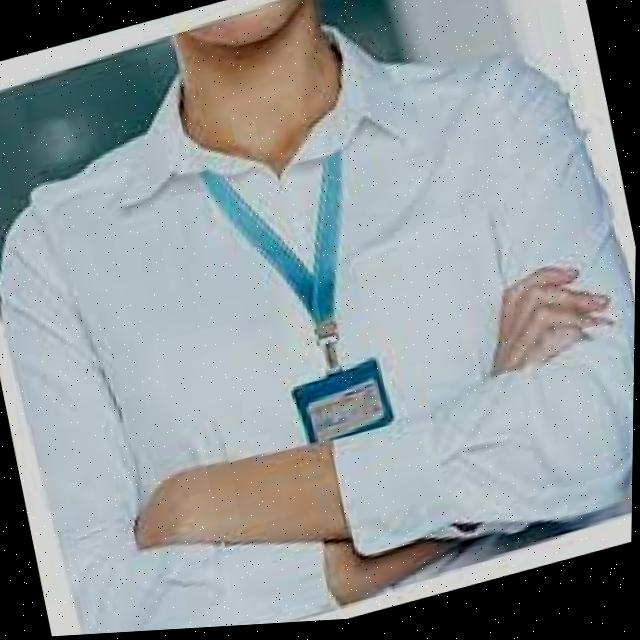id_card: (186, 127, 418, 474)
